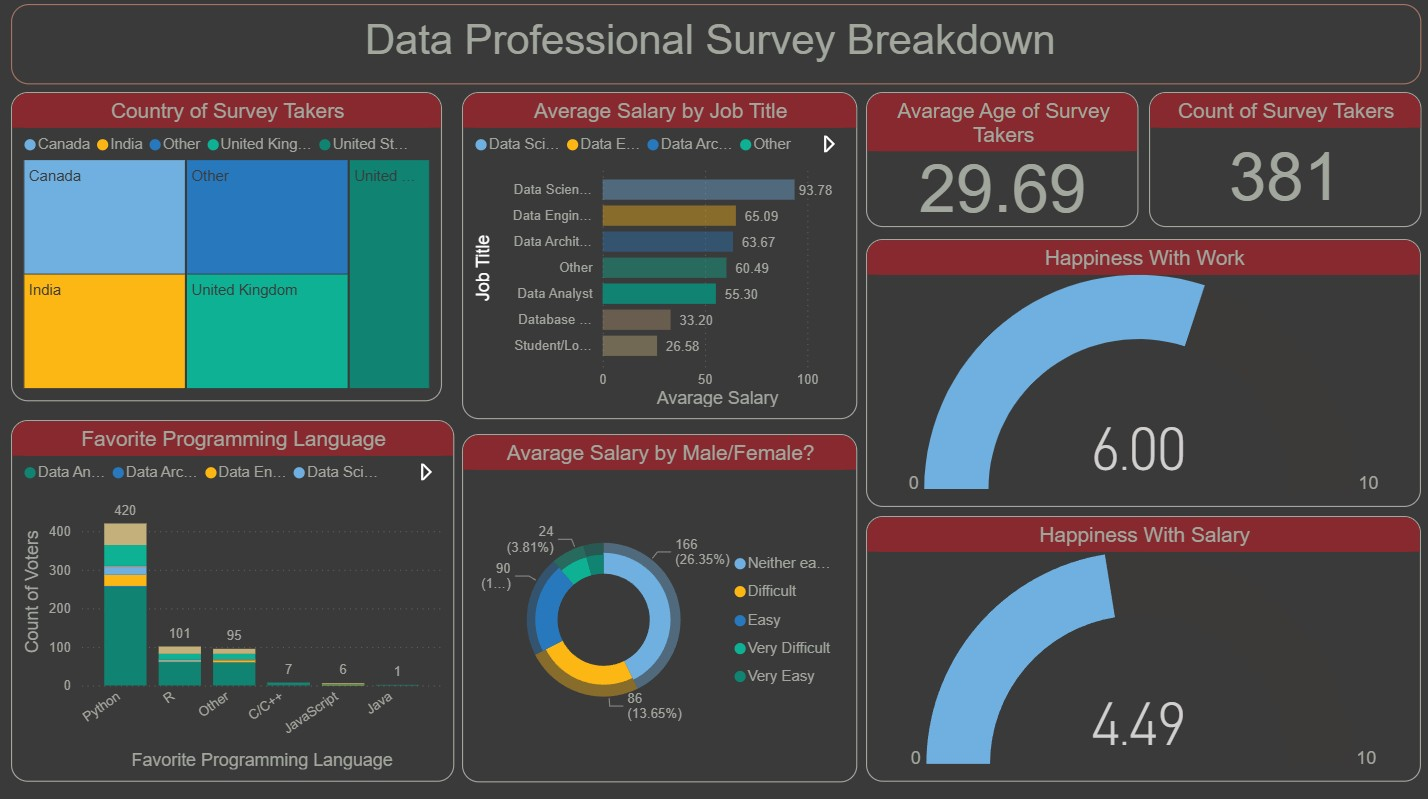

The dashboard page shown, as its layout file describes it:
{"tool":"powerbi","page":{"name":"Overview","canvas":[1280,720],"ordinal":0},"visuals":[{"type":"textbox","box":[9.9,6.3,1262.7,71.6],"z":0},{"type":"card","title":"Count of Survey Takers","fields":{"Values":["Count(Data Professional Survey.Unique ID)"]},"box":[1029,85.1,243.6,120.9],"z":1000},{"type":"card","title":"Avarage Age of Survey Takers","fields":{"Values":["Avg(Data Professional Survey.Q10 - Current Age)"]},"box":[775.5,85.1,244.5,120.9],"z":2000},{"type":"barChart","title":"Average Salary by Job Title","fields":{"Category":["Data Professional Survey.Q1 - Which Title Best Fits your Current Role?.1"],"Y":["Avg(Data Professional Survey.Avarage Salary)"],"Series":["Data Professional Survey.Q1 - Which Title Best Fits your Current Role?.1"]},"box":[413.9,85.1,353.7,293.5],"z":3000},{"type":"columnChart","title":"Favorite Programming Language","fields":{"Category":["Data Professional Survey.Q5 - Favorite Programming Language.1"],"Y":["CountNonNull(Data Professional Survey.Unique ID)"],"Series":["Data Professional Survey.Q1 - Which Title Best Fits your Current Role?.1"]},"box":[9.6,378.6,396.7,324.1],"z":4000},{"type":"treemap","title":"Country of Survey Takers","fields":{"Group":["Data Professional Survey.Q11 - Which Country do you live in?.1"],"Values":["Count(Data Professional Survey.Q11 - Which Country do you live in?.1)"]},"box":[9.6,85.1,386.2,277.2],"z":5000},{"type":"gauge","title":"Happiness With Work","fields":{"Y":["Avg(Data Professional Survey.Q6 - How Happy are you in your Current Position with the following? (Work/Life Balance))"],"MinValue":["Min(Data Professional Survey.Q6 - How Happy are you in your Current Position with the following? (Work/Life Balance))"],"MaxValue":["Max(Data Professional Survey.Q6 - How Happy are you in your Current Position with the following? (Work/Life Balance))"]},"box":[775.3,217,497.1,239.9],"z":6000},{"type":"gauge","title":"Happiness With Salary","fields":{"Y":["Avg(Data Professional Survey.Q6 - How Happy are you in your Current Position with the following? (Salary))"],"MinValue":["Min(Data Professional Survey.Q6 - How Happy are you in your Current Position with the following? (Salary))"],"MaxValue":["Max(Data Professional Survey.Q6 - How Happy are you in your Current Position with the following? (Salary))"]},"box":[775.3,464.6,497.1,238],"z":7000},{"type":"donutChart","title":"Avarage Salary by Male/Female?","fields":{"Category":["Data Professional Survey.Q7 - How difficult was it for you to break into Data?"],"Y":["CountNonNull(Data Professional Survey.Q7 - How difficult was it for you to break into Data?)"]},"box":[413.9,391,353.7,311.6],"z":8000}]}

Visuals, with their boxes in screenshot pixels (x1, y1, x2, y2), scaled from the page's 1280x720 canvas onto the 1428x799 screenshot:
textbox: crop(11, 7, 1420, 86)
"Count of Survey Takers" card: crop(1148, 94, 1420, 229)
"Avarage Age of Survey Takers" card: crop(865, 94, 1138, 229)
"Average Salary by Job Title" barChart: crop(462, 94, 856, 420)
"Favorite Programming Language" columnChart: crop(11, 420, 453, 780)
"Country of Survey Takers" treemap: crop(11, 94, 442, 402)
"Happiness With Work" gauge: crop(865, 241, 1420, 507)
"Happiness With Salary" gauge: crop(865, 516, 1420, 780)
"Avarage Salary by Male/Female?" donutChart: crop(462, 434, 856, 780)
